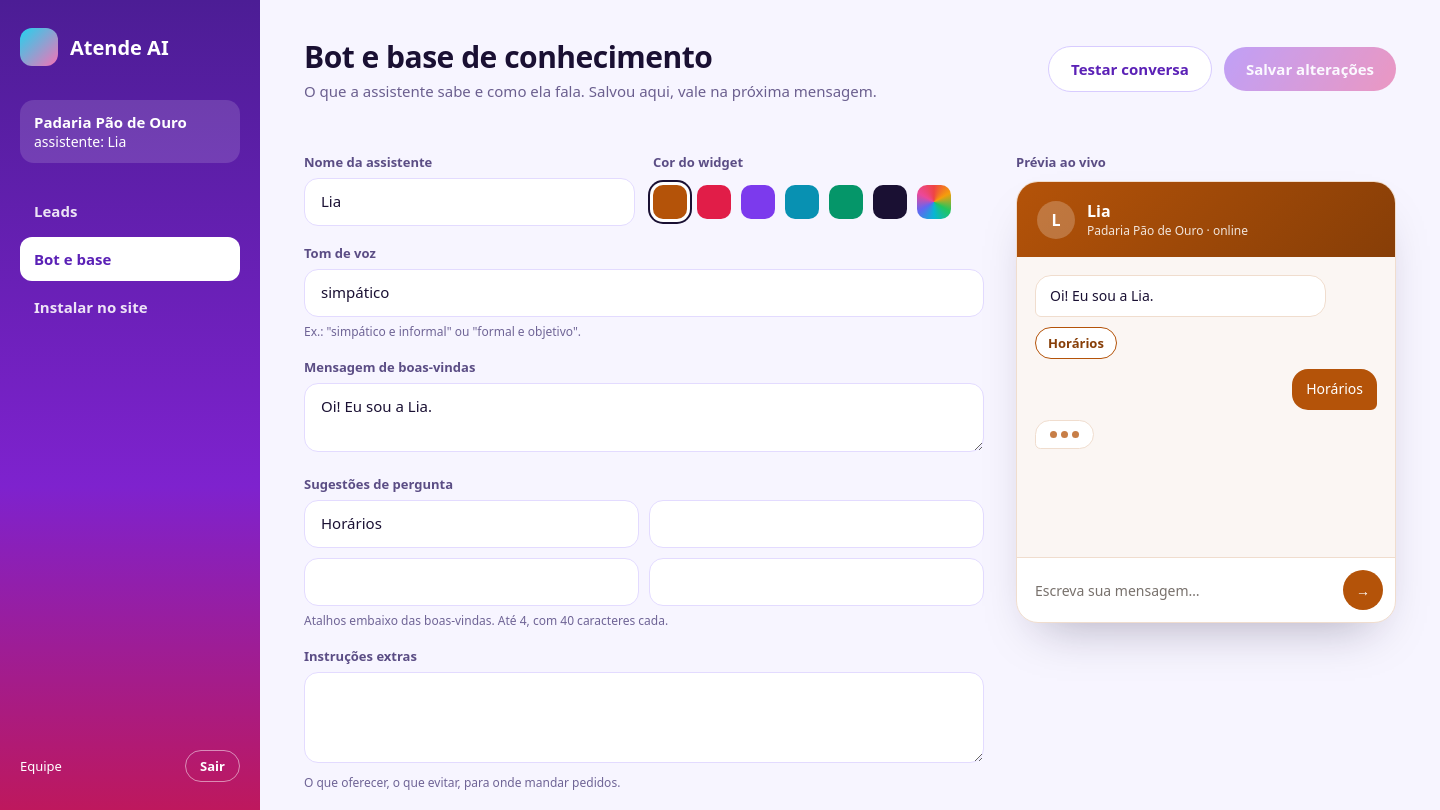
bot e base › salva só o que mudou e atualiza a prévia e a lateral
Expected: the button "Salvar alterações" is disabled, [1224,46,1396,90]
Replace the text in the field labelled "Nome da assistente" with "Bia" at (470, 202), box [304,178,635,226]
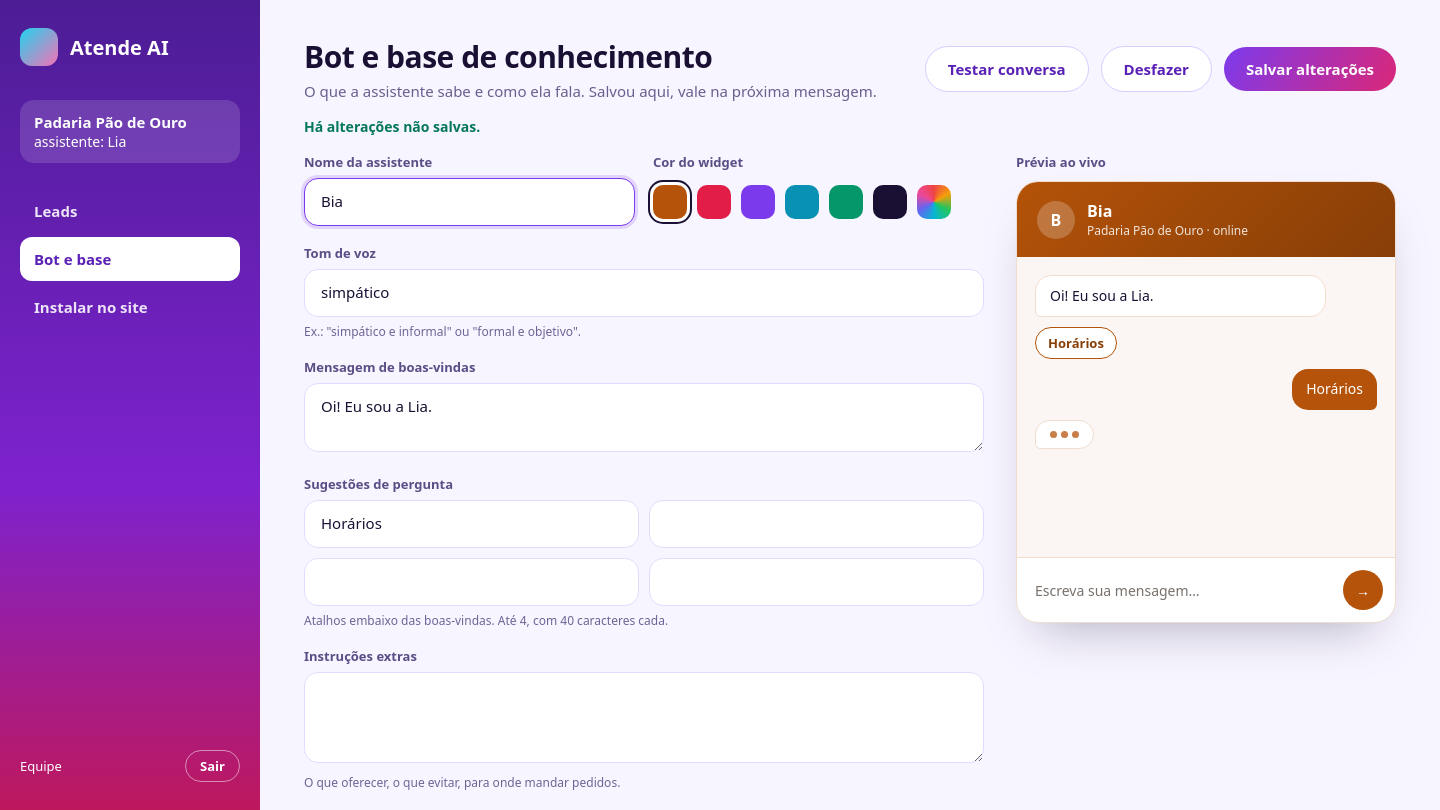
Type "Encomendas" into the field named "Sugestão 2" at (816, 524), box [649,500,984,548]
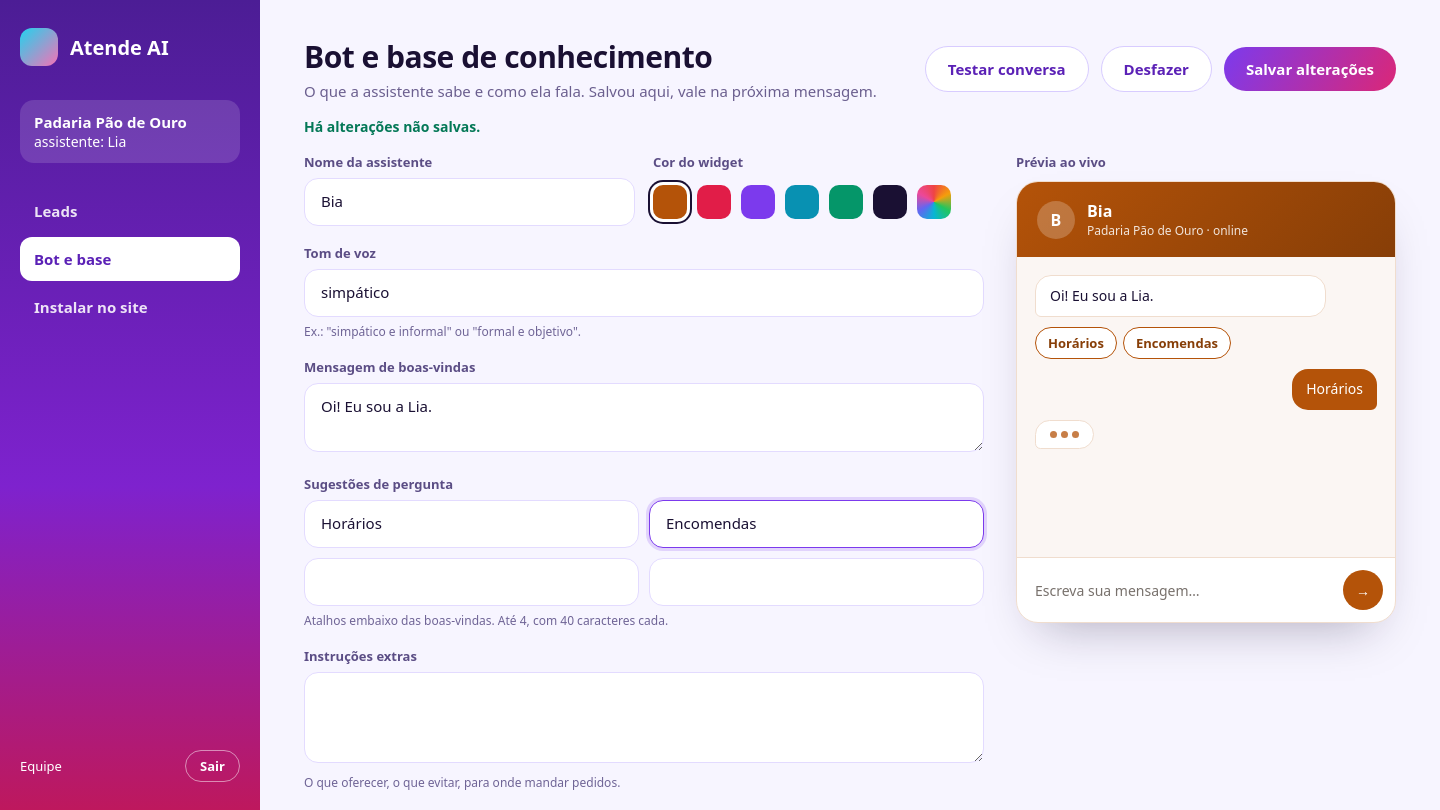
Click the radio button named "Cor #7c3aed" at (758, 202), box [741,185,775,219]
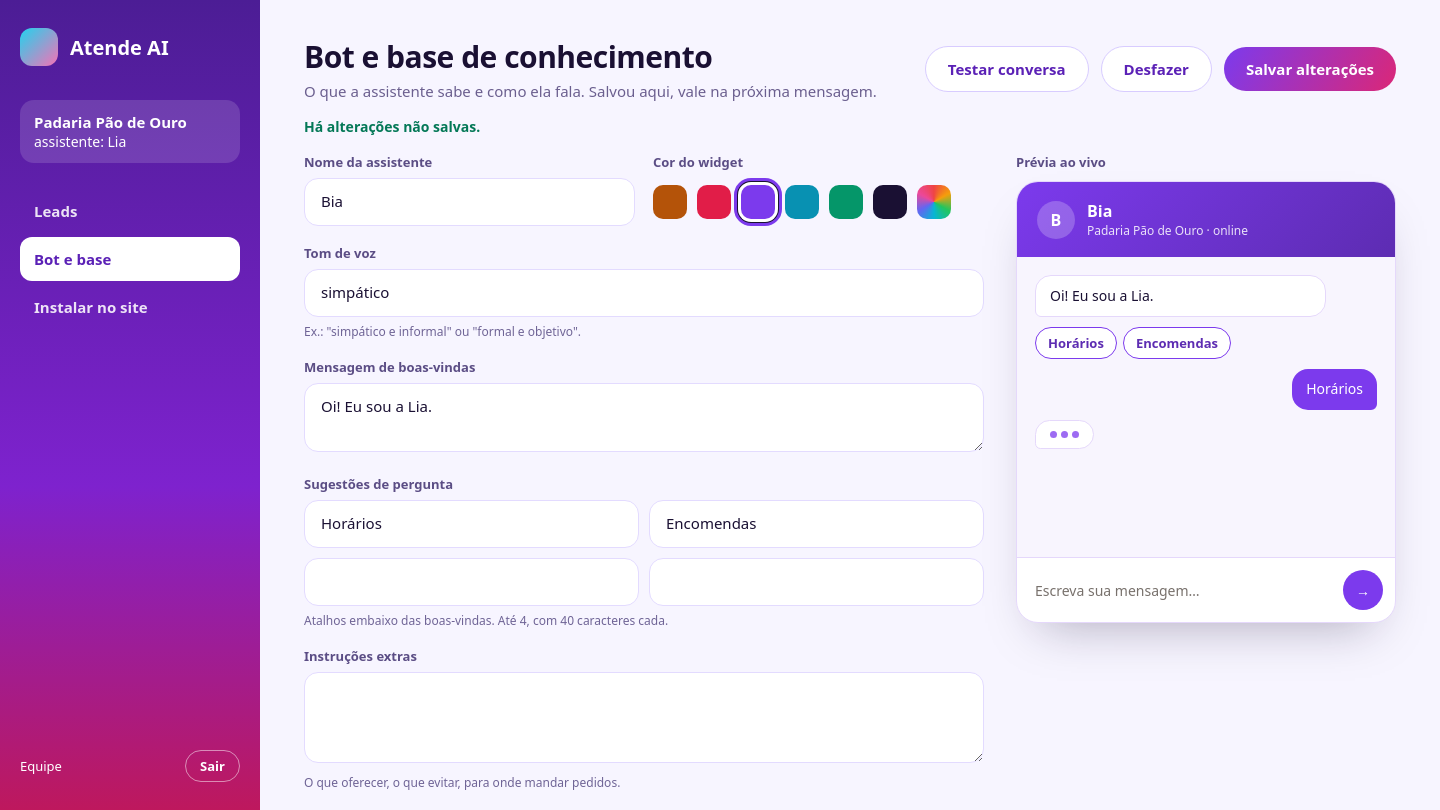
Now the text "Bia" is shown, box [1087,200,1112,222]
Now the text "Encomendas" is shown, box [1123,327,1231,359]
Now the text "Há alterações não salvas." is shown, box [304,117,480,136]
Click the button "Salvar alterações" at (1310, 68), box [1224,46,1396,90]
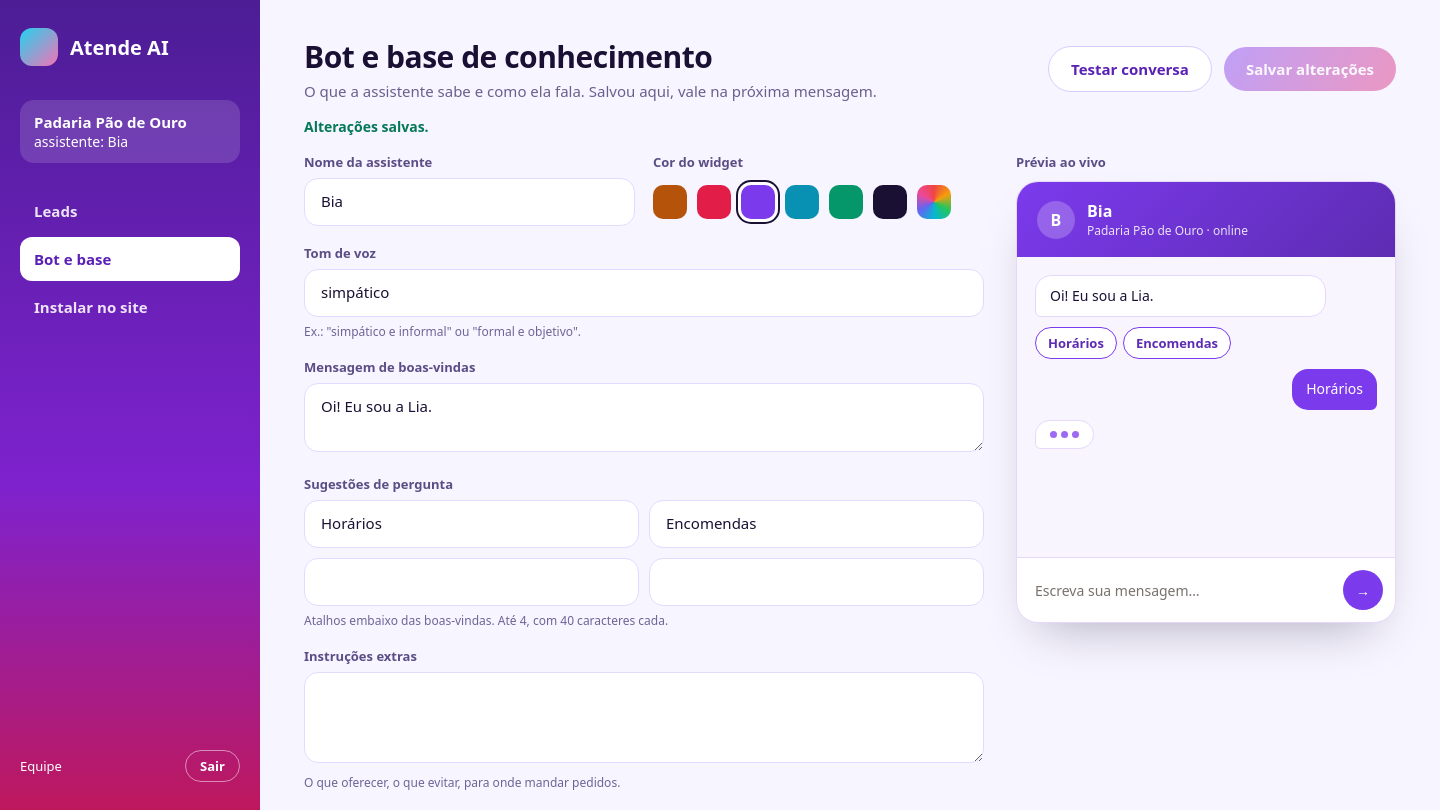
Now the text "Alterações salvas." is shown, box [304,117,429,136]
Now the text "assistente: Bia" is shown, box [20,100,240,163]
Now the button "Salvar alterações" is disabled, box [1224,46,1396,90]
